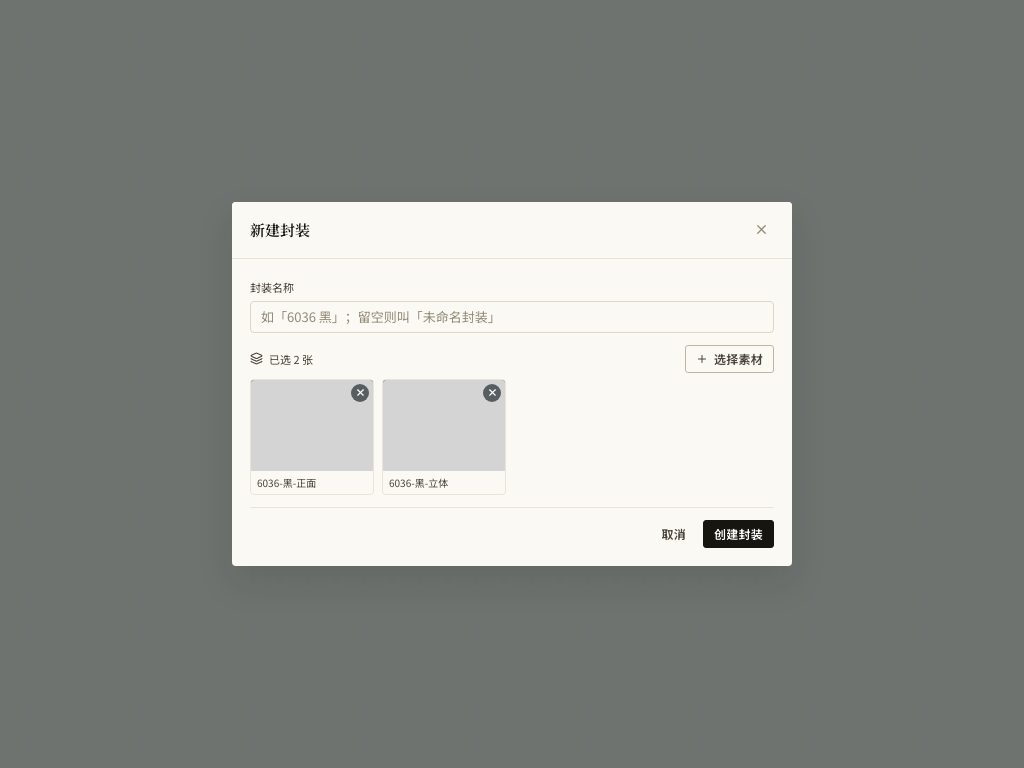
it: PackCreateModal · 成员 › 可以就地把某张移出这一批
Click the button named "移除 6036-黑-立体": (492,393) 483,384 -> 501,402
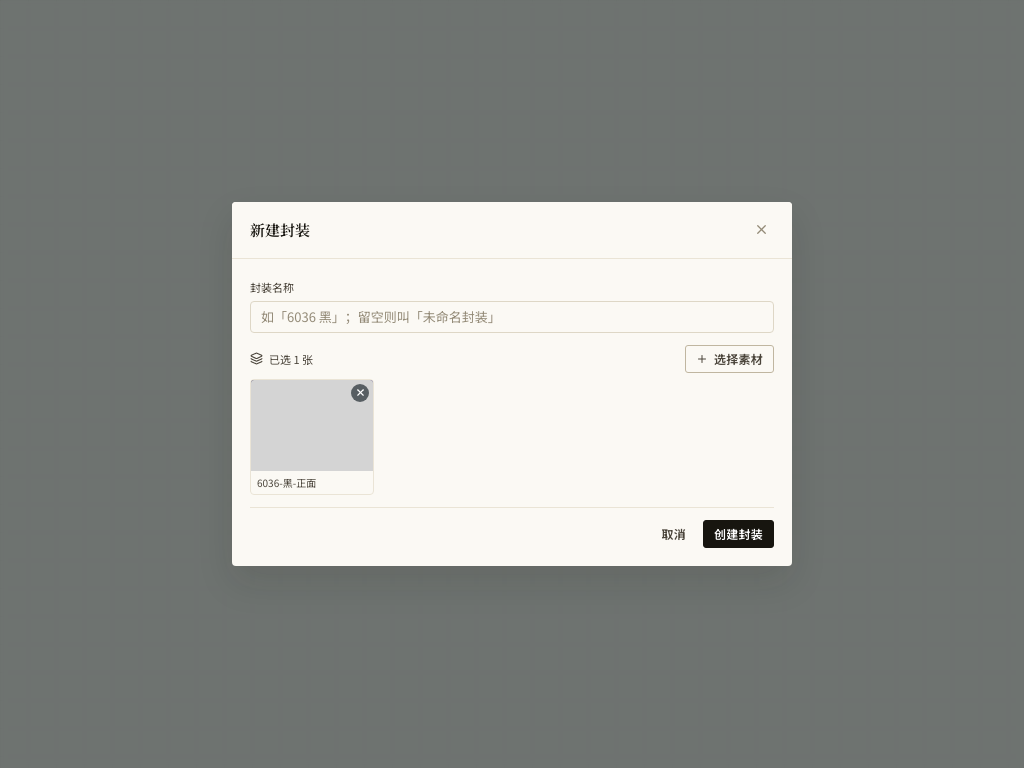
Check: the text "已选 1 张" is shown, box 250,351 -> 313,367
